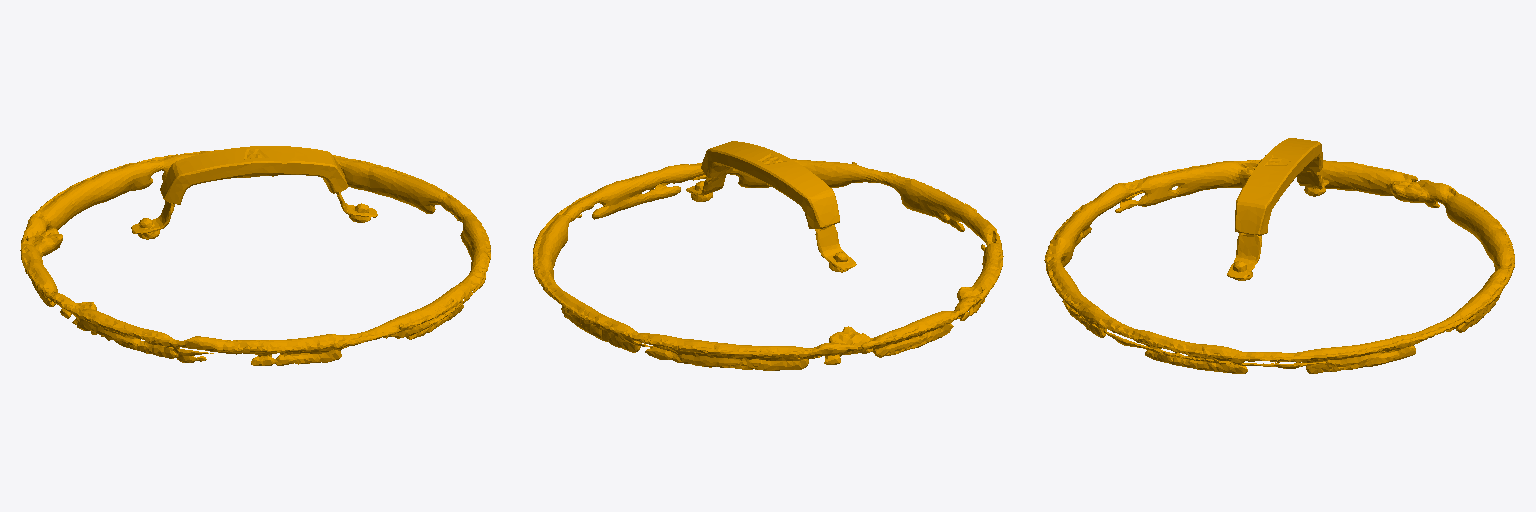
The robot description file, URDF, robot "028_skillet_lid":
<?xml version="1.0" ?>
<robot name="028_skillet_lid">
  <link name="base_link">
    <inertial>
      <mass value="0.21443481989413782"/>
      <origin rpy="0.39159 -1.56001 -0.74349" xyz="0.00845 0.02381 0.01935"/>
      <inertia ixx="0.0014194293706084867" ixy="-1.5123025426036836e-19" ixz="-1.6028914634978795e-21" iyy="0.0007876849303351525" iyz="-5.056355354057055e-21" izz="0.0007454402414364815"/>
    </inertial>
    <collision name="028_skillet_lid__collision">
      <origin rpy="0 0 0" xyz="0 0 0"/>
      <geometry>
        <mesh filename="./028_skillet_lid_250_collision.stl" scale="1.0 1.0 1.0"/>
      </geometry>
    </collision>
    <visual name="028_skillet_lid__visual">
      <origin rpy="0 0 0" xyz="0 0 0"/>
      <geometry>
        <mesh filename="./textured.obj" scale="1.0 1.0 1.0"/>
      </geometry>
    </visual>
  </link>
</robot>

--- What the picture shows (computed from the rendered views, not written in the file) ---
The picture shows the robot from 3 angles, left to right: view 1: azimuth 30°, elevation 25°; view 2: azimuth 150°, elevation 25°; view 3: azimuth 270°, elevation 25°; orthographic projection.
Model 028_skillet_lid with 1 links and 0 joints (none), rooted at base_link, posed every joint at zero.
Visible links, largest first — view 1: base_link; view 2: base_link; view 3: base_link.
Boxes of the visible links, <box> form: base_link: <box>20,146,490,365</box>; base_link: <box>533,141,1003,370</box>; base_link: <box>1044,138,1514,373</box>.
Bounding box of the posed robot: 0.2683 × 0.2692 × 0.0761 m (x, y, z).
Meshes: 1 distinct files referenced, 1 mesh visuals loaded (1 OBJ).